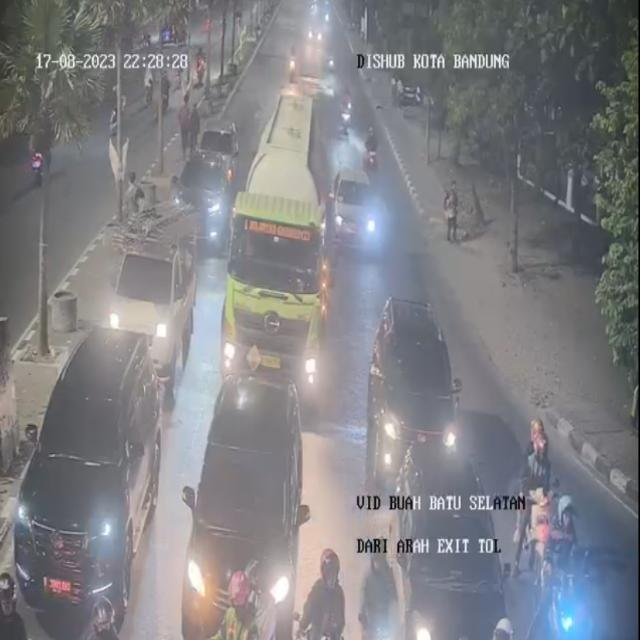cars: (16, 328, 164, 618), (184, 372, 311, 640), (375, 446, 505, 640), (365, 282, 461, 489), (105, 239, 198, 393), (180, 112, 237, 250), (334, 165, 386, 262)
motorcycle: (531, 505, 596, 640), (517, 413, 560, 557), (305, 546, 353, 638), (0, 567, 31, 639), (362, 124, 379, 174), (342, 86, 356, 132)
truck: (221, 106, 331, 413)
